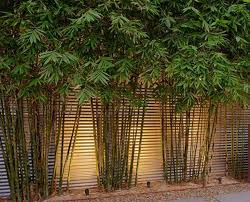bamboo: (162, 1, 245, 177), (1, 5, 70, 189), (79, 4, 146, 183)
